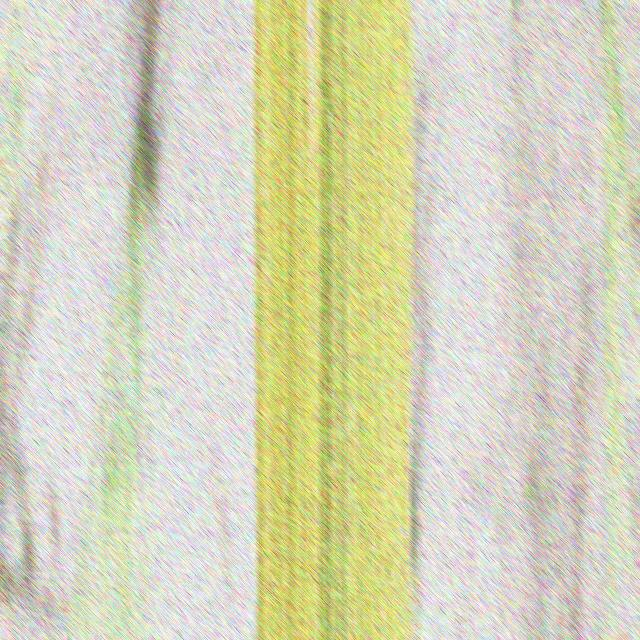BLS: (306, 1, 315, 156)
